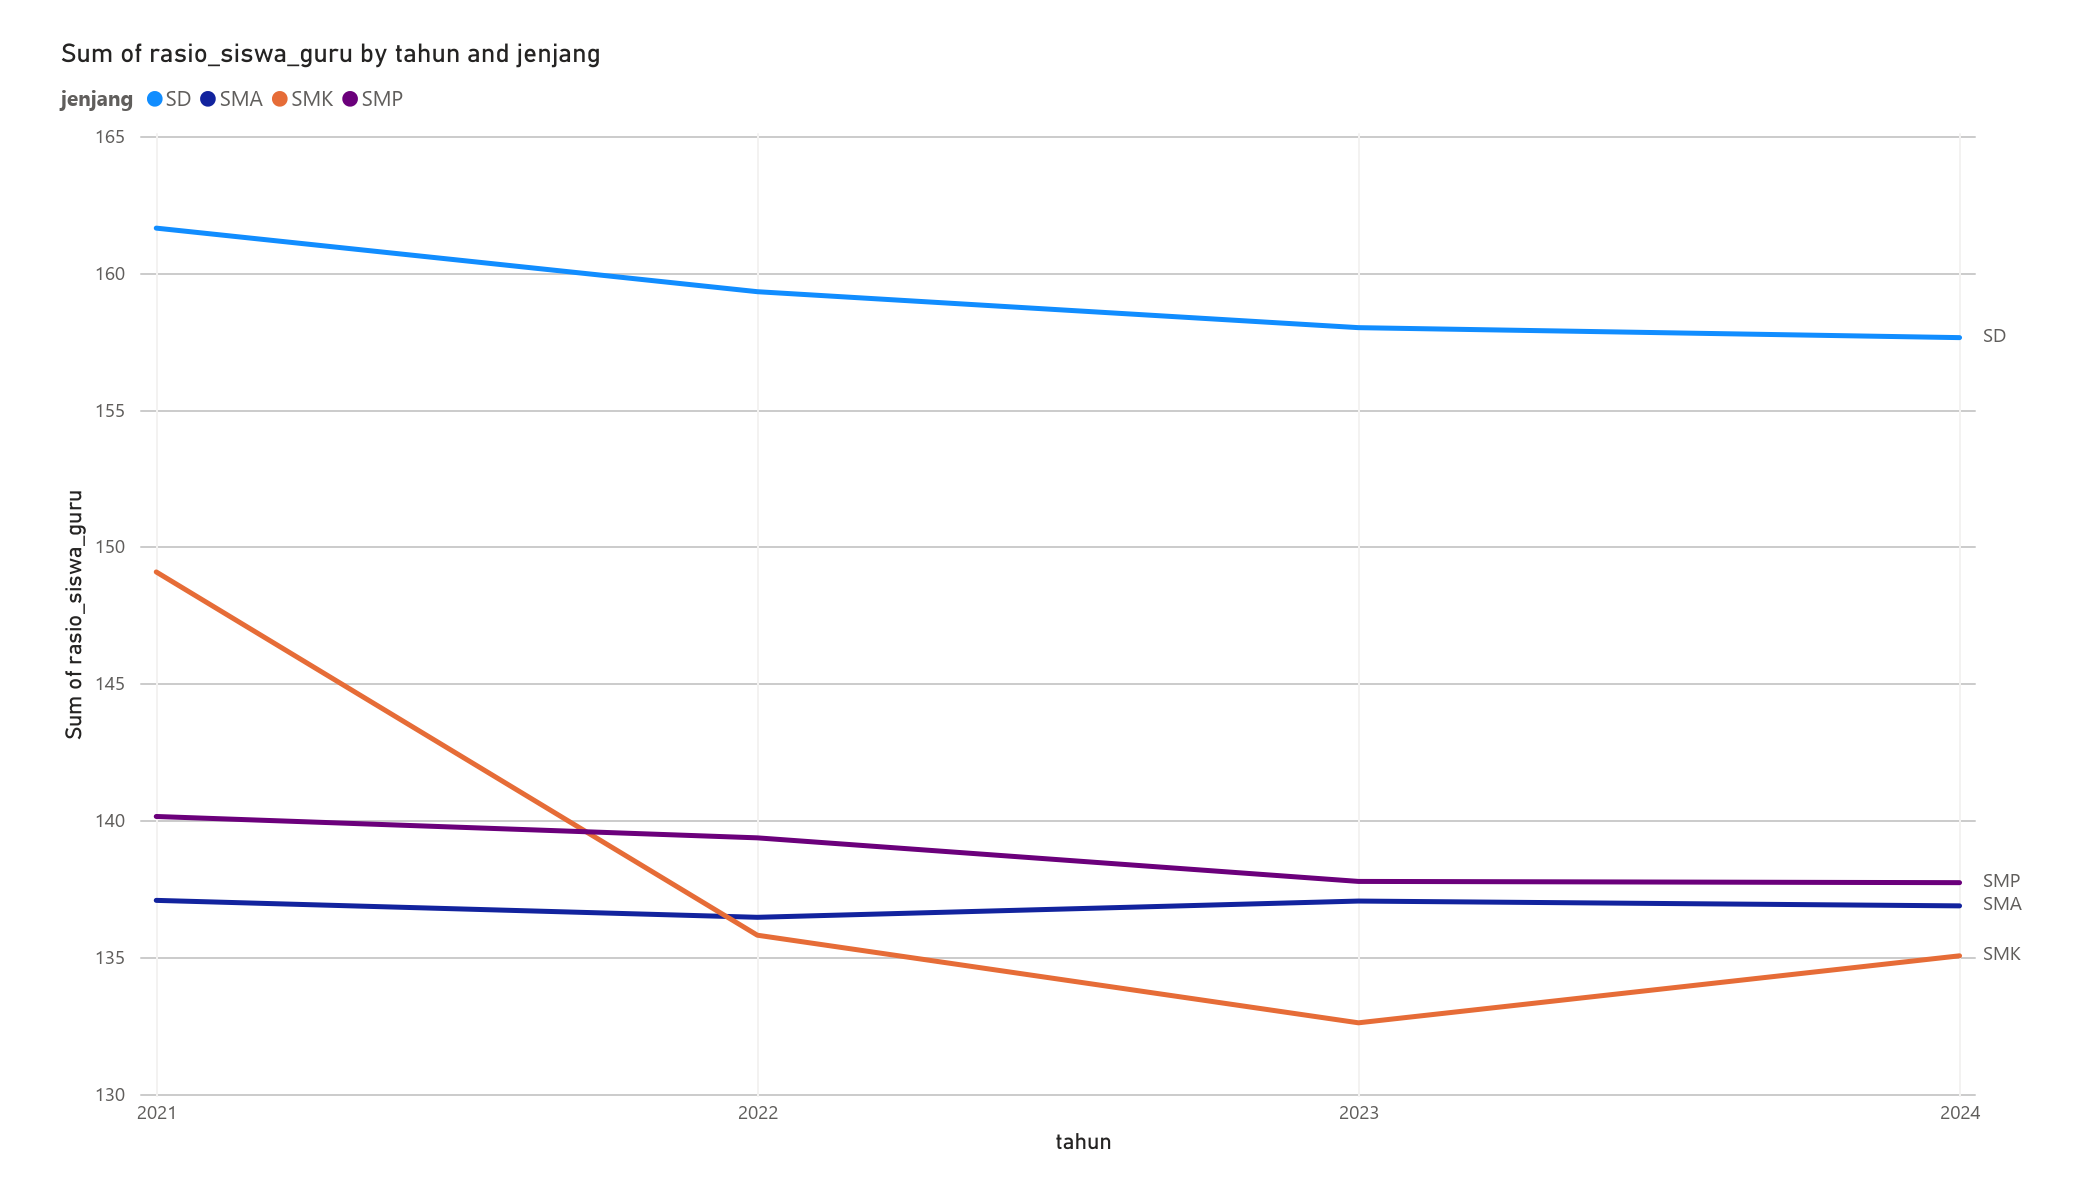

This screenshot's page, from the dashboard's own definition file:
{"tool":"powerbi","page":{"name":"Rasio siswa guru","canvas":[1280,720],"ordinal":2},"visuals":[{"type":"lineChart","fields":{"Category":["df_borneo.tahun"],"Y":["Sum(df_borneo.rasio_siswa_guru)"],"Series":["df_borneo.jenjang"]},"box":[10,0,1270.7,719],"z":0}]}

Visuals, with their boxes on the page's 1280x720 design canvas (x1, y1, x2, y2). These are canvas units, not pixel positions in the 2075x1200 screenshot, which may show the page scaled, cropped or inside an application window:
lineChart - df_borneo.tahun x Sum(df_borneo.rasio_siswa_guru): <region>10, 0, 1281, 719</region>
